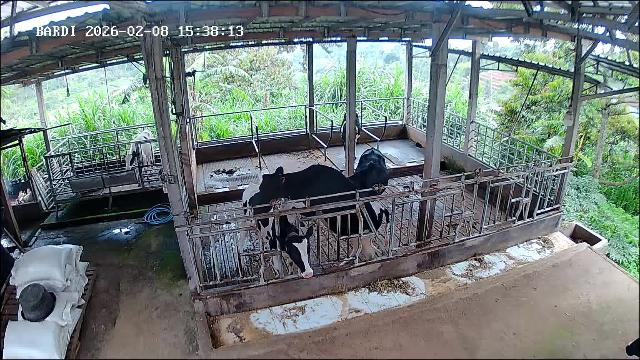mounting: (257, 161, 381, 264)
